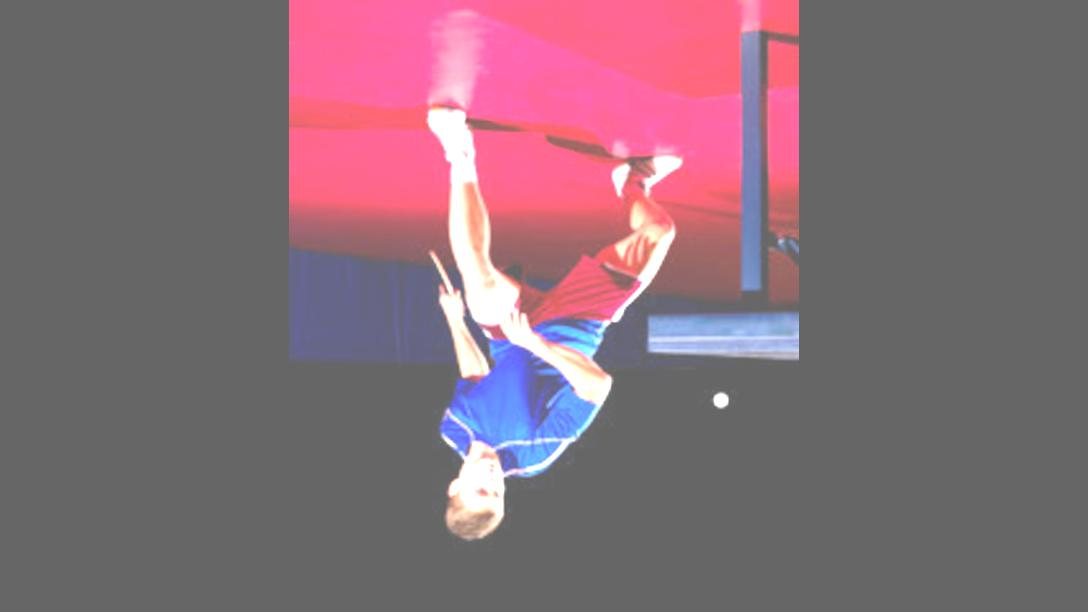Table-Tennis-Ball: (714, 394, 728, 408)
